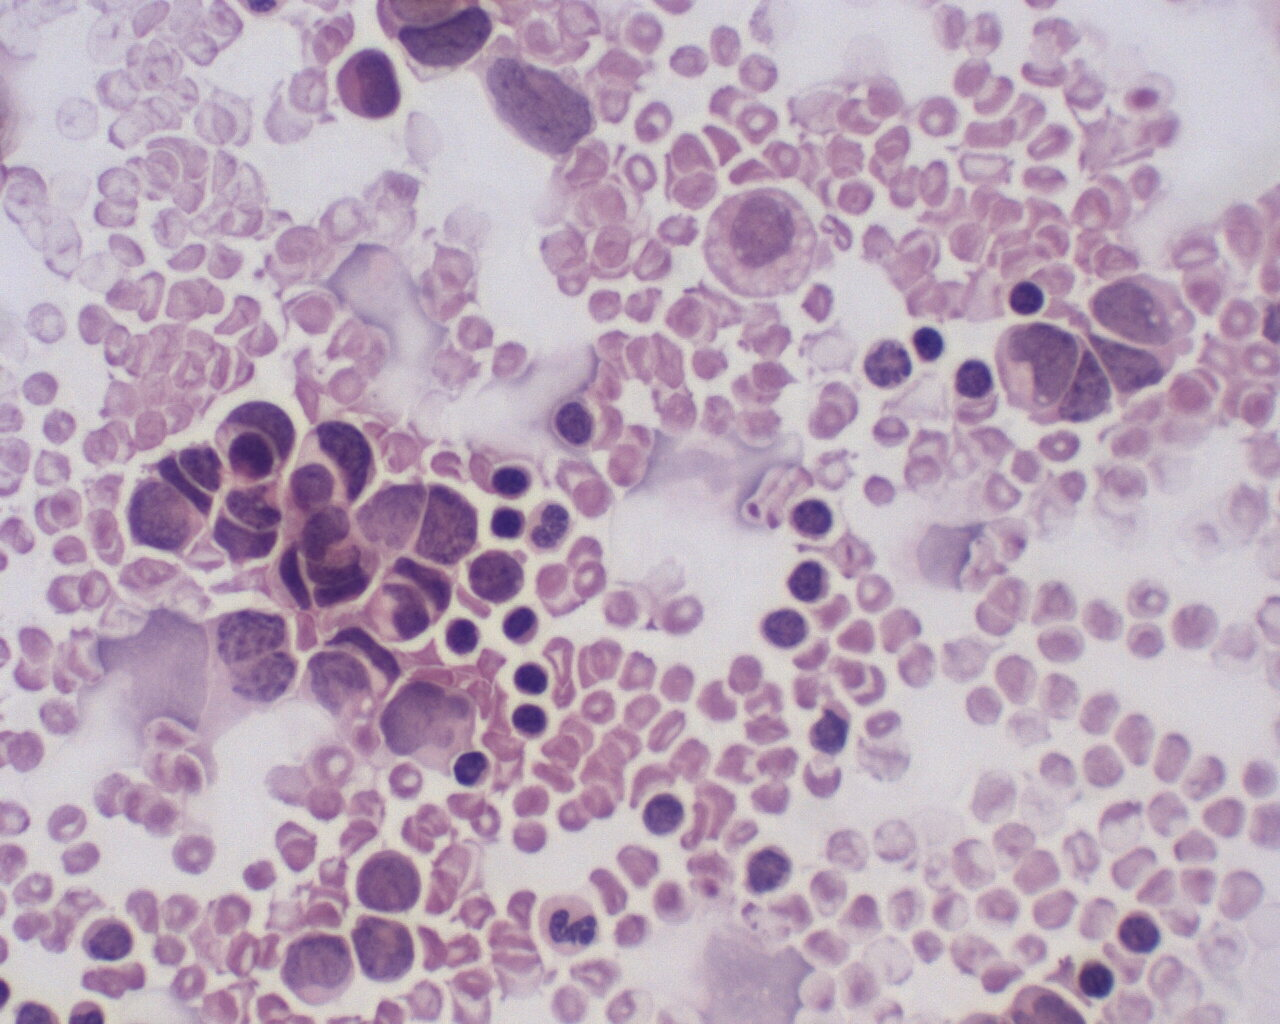ab: (1083, 265, 1220, 345), (991, 319, 1086, 417), (216, 388, 299, 484), (362, 558, 455, 643), (274, 928, 357, 1007), (333, 45, 406, 123), (349, 912, 418, 983), (355, 847, 425, 914), (465, 545, 527, 603)
lymph: (785, 559, 834, 606), (641, 791, 689, 838), (514, 659, 550, 698), (512, 703, 549, 739)
